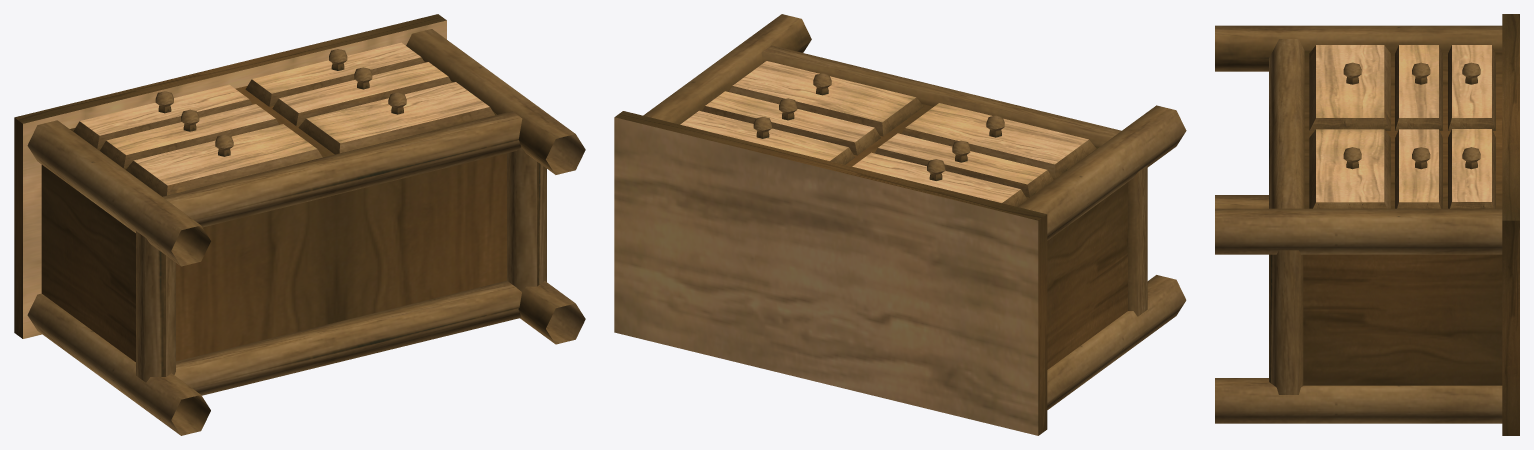
File: Log_Dresser_A.fbx
3 renders of one model, left to right at view 1: azimuth 30°, elevation 25°; view 2: azimuth 150°, elevation 25°; view 3: azimuth 270°, elevation 25°, orthographic.
Visible parts, largest first — view 1: Log_Dresser_A; view 2: Log_Dresser_A; view 3: Log_Dresser_A.
Boxes of the visible parts, x1=… form: Log_Dresser_A: x1=14, y1=14, x2=585, y2=435; Log_Dresser_A: x1=614, y1=14, x2=1186, y2=435; Log_Dresser_A: x1=1215, y1=14, x2=1519, y2=435.
Size of the model in its own units: 13.17 by 6.78 by 8.21.
